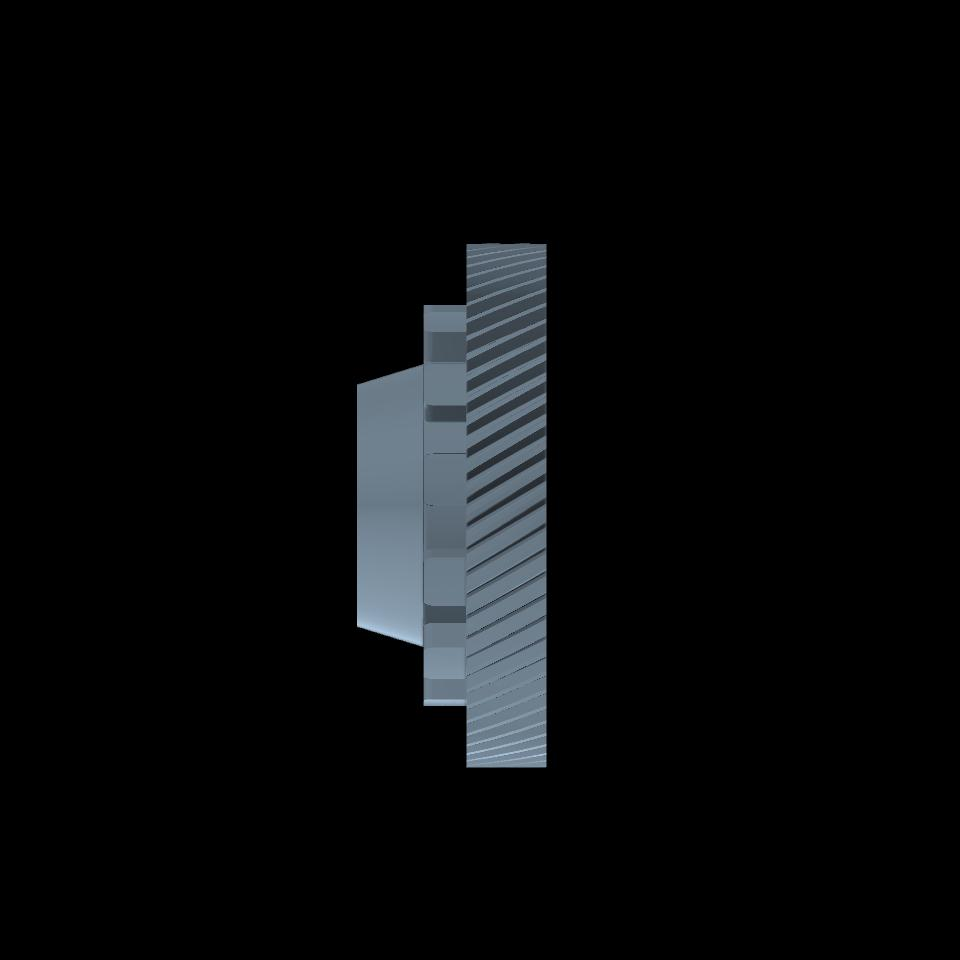Helical: (466, 243, 545, 767)
